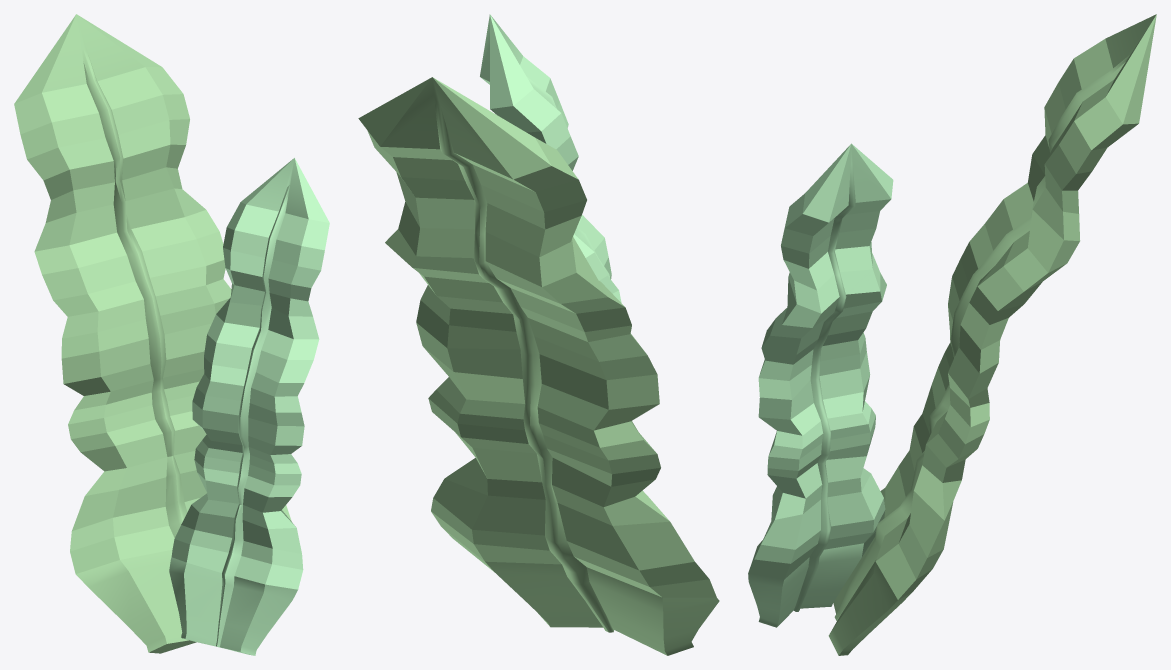
Rendered from bompyleafy.fbx.
3 renders of one model, left to right at view 1: azimuth 30°, elevation 25°; view 2: azimuth 150°, elevation 25°; view 3: azimuth 270°, elevation 25°, orthographic. The views are drawn at different scales.
Parts seen in each view (by area): view 1: pCone1, pCone2; view 2: pCone1, pCone2; view 3: pCone1, pCone2.
Part boxes in pixels (x1=…): pCone1: x1=14, y1=14, x2=291, y2=653; pCone2: x1=169, y1=158, x2=329, y2=655; pCone1: x1=358, y1=77, x2=719, y2=655; pCone2: x1=480, y1=14, x2=621, y2=302; pCone1: x1=828, y1=14, x2=1156, y2=655; pCone2: x1=748, y1=143, x2=893, y2=627.
Size of the model in its own units: 2.61 by 6.17 by 3.7.
